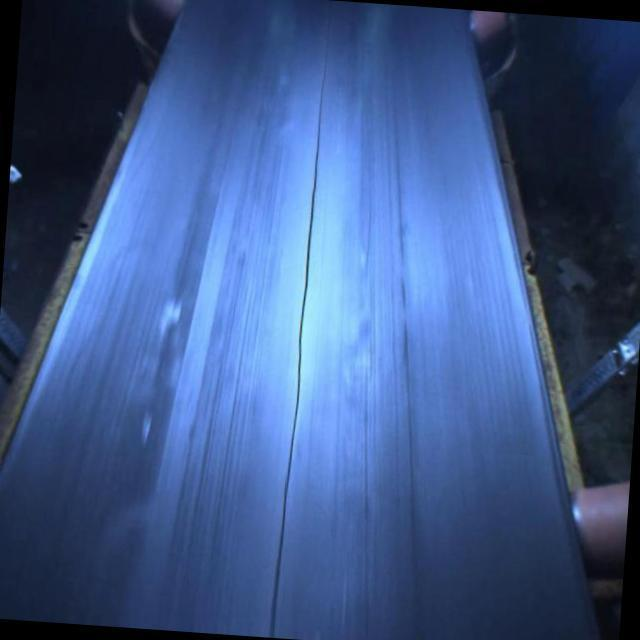Tear: (261, 30, 334, 637)
